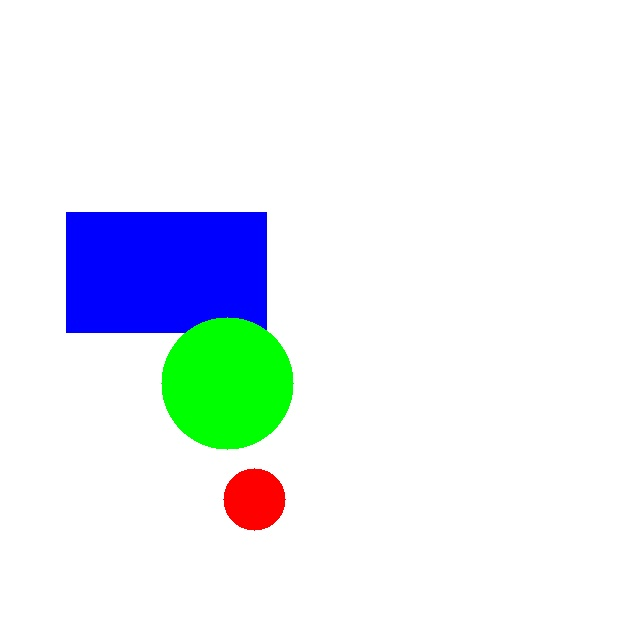cartao: (66, 212, 266, 332)
rosca_externa: (161, 317, 293, 449)
rosca_interna: (223, 468, 285, 530)
